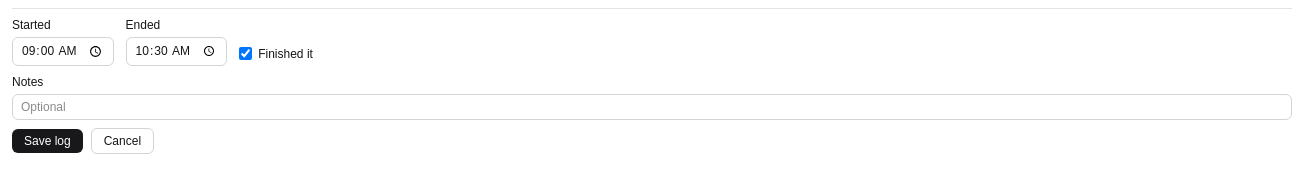
Scenario: LogTimeForm › refuses to submit an end time before the start
Step 1. Replace the text in the time field labelled "Ended" with "08:00" → (176,51), box [126,37,227,66]
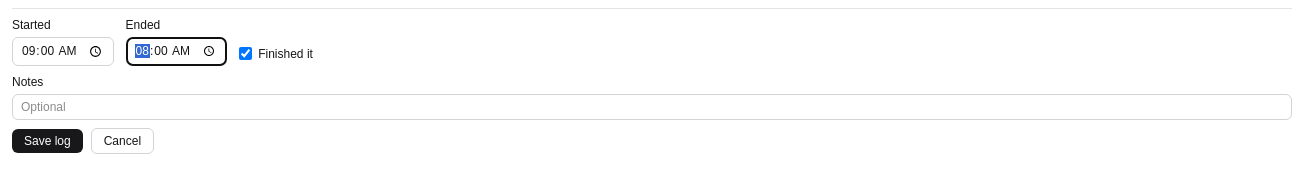
Step 2. Click the button "Save log" → (47,141), box [12,129,83,153]
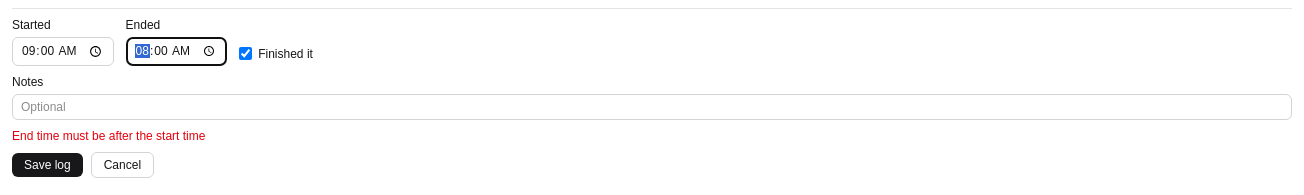
Result: the text "End time must be after the start time" is shown at [12,129,205,143]
